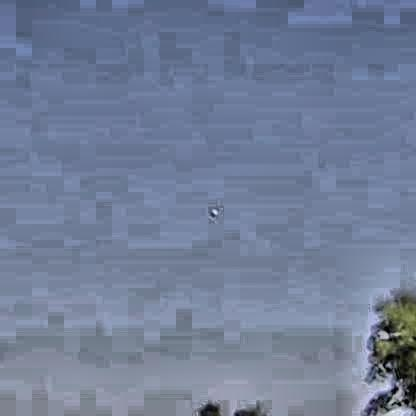golfball: (206, 207, 214, 214)
